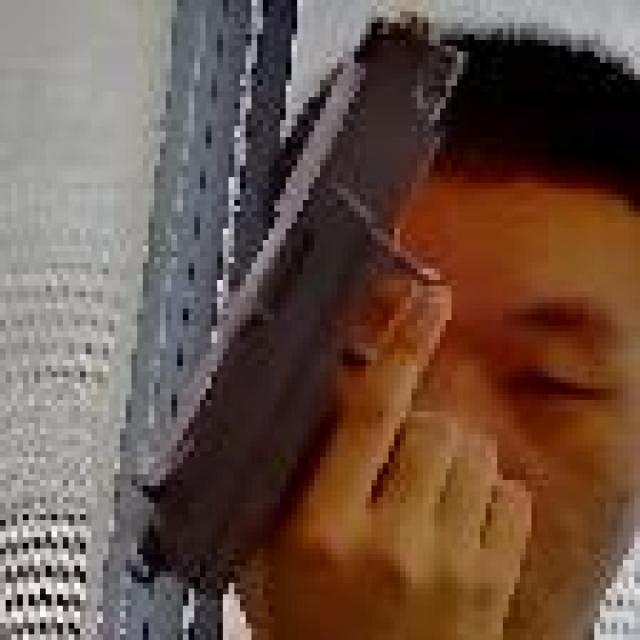pistol: (120, 3, 578, 600)
